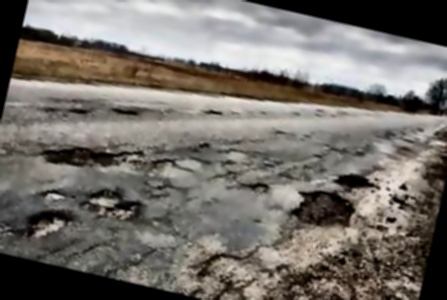pothole: (39, 126, 143, 181), (291, 184, 362, 234), (81, 184, 143, 225), (23, 203, 75, 247), (332, 167, 380, 194), (42, 187, 70, 203)
